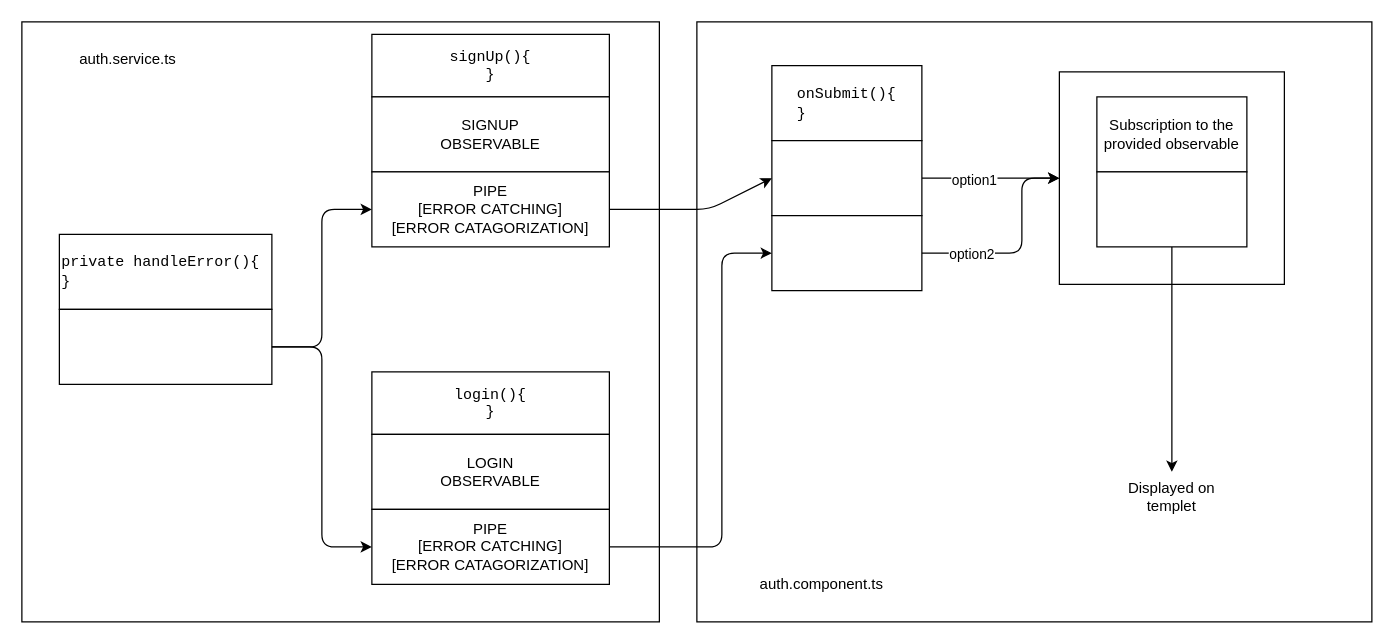
Image size: 1394x644. Some labels were removed from this diagram. The shapes that lost their labels are listed below. From the top down, each one's centre as x and y in pixels, then its label:
(x=846, y=177): either : login
(x=1171, y=209): Parse the error code and assign it to local error property
(x=846, y=252): or : signUp
(x=165, y=346): This method includes the error identification code
